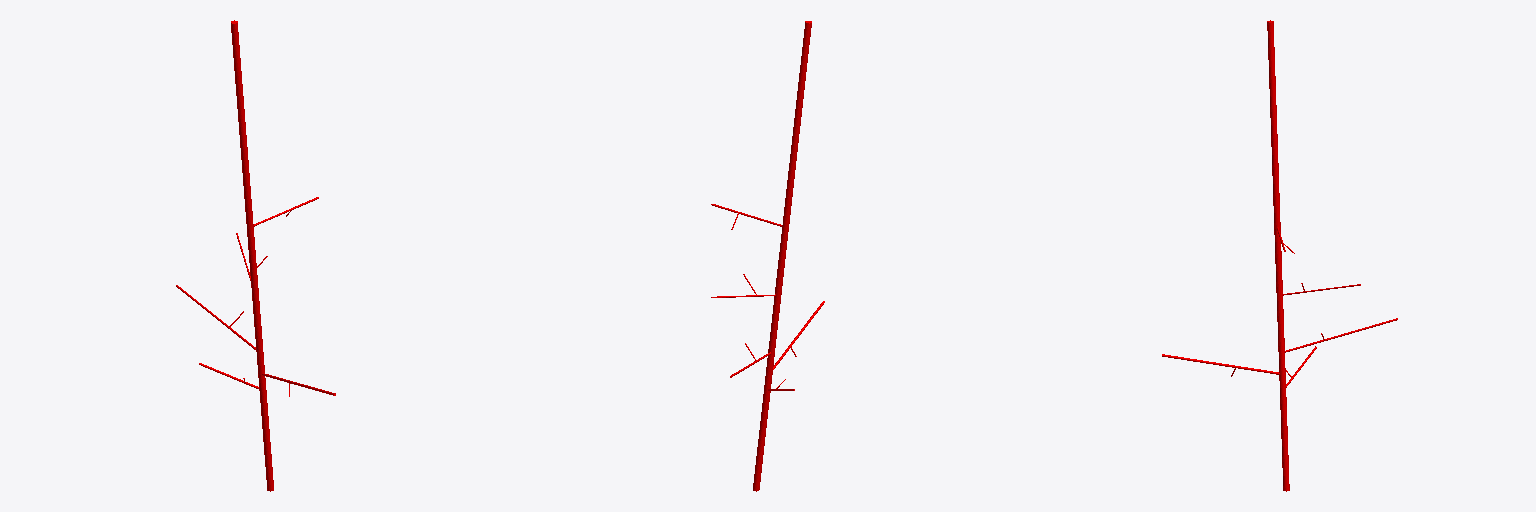
robot.urdf — tree_148.urdf:
<?xml version='1.0' encoding='UTF-8'?>
<robot name="tree_148.urdf">
  <link name="branch_0">
    <inertial>
      <origin xyz="0.0 0.0 0.0" rpy="0.0 -0.0 0.0"/>
      <mass value="0.1"/>
      <inertia ixx="0.001" ixy="0.0" ixz="0.0" iyy="0.001" iyz="0.0" izz="0.001"/>
    </inertial>
    <visual name="branch_0_visual">
      <geometry>
        <cylinder radius="0.051991936063921634" length="7.9982243961514445"/>
      </geometry>
      <material name="semantic_material"/>
      <origin xyz="-0.38846154736743893 -0.12919843690365487 3.9781030357340645" rpy="6.584279519017234e-18 0.10254816281654075 -2.8205112231306124"/>
    </visual>
    <collision name="branch_0_collision">
      <geometry>
        <cylinder radius="0.051991936063921634" length="7.9982243961514445"/>
      </geometry>
      <origin xyz="-0.38846154736743893 -0.12919843690365487 3.9781030357340645" rpy="6.584279519017234e-18 0.10254816281654075 -2.8205112231306124"/>
    </collision>
  </link>
  <link name="branch_1">
    <inertial>
      <origin xyz="0.0 0.0 0.0" rpy="0.0 -0.0 0.0"/>
      <mass value="0.1"/>
      <inertia ixx="0.001" ixy="0.0" ixz="0.0" iyy="0.001" iyz="0.0" izz="0.001"/>
    </inertial>
    <visual name="branch_1_visual">
      <geometry>
        <cylinder radius="0.017871542907593328" length="1.0322705889503438"/>
      </geometry>
      <material name="semantic_material"/>
      <origin xyz="0.0 0.0 0.0" rpy="0.0 -0.0 0.0"/>
    </visual>
    <collision name="branch_1_collision">
      <geometry>
        <cylinder radius="0.017871542907593328" length="1.0322705889503438"/>
      </geometry>
      <origin xyz="0.0 0.0 0.0" rpy="0.0 -0.0 0.0"/>
    </collision>
  </link>
  <link name="branch_2">
    <inertial>
      <origin xyz="0.0 0.0 0.0" rpy="0.0 -0.0 0.0"/>
      <mass value="0.1"/>
      <inertia ixx="0.001" ixy="0.0" ixz="0.0" iyy="0.001" iyz="0.0" izz="0.001"/>
    </inertial>
    <visual name="branch_2_visual">
      <geometry>
        <cylinder radius="0.01" length="0.24160204057257373"/>
      </geometry>
      <material name="semantic_material"/>
      <origin xyz="0.0 0.0 0.0" rpy="0.0 -0.0 0.0"/>
    </visual>
    <collision name="branch_2_collision">
      <geometry>
        <cylinder radius="0.01" length="0.24160204057257373"/>
      </geometry>
      <origin xyz="0.0 0.0 0.0" rpy="0.0 -0.0 0.0"/>
    </collision>
  </link>
  <link name="branch_3">
    <inertial>
      <origin xyz="0.0 0.0 0.0" rpy="0.0 -0.0 0.0"/>
      <mass value="0.1"/>
      <inertia ixx="0.001" ixy="0.0" ixz="0.0" iyy="0.001" iyz="0.0" izz="0.001"/>
    </inertial>
    <visual name="branch_3_visual">
      <geometry>
        <cylinder radius="0.016042055109456506" length="1.2517485028761957"/>
      </geometry>
      <material name="semantic_material"/>
      <origin xyz="0.0 0.0 0.0" rpy="0.0 -0.0 0.0"/>
    </visual>
    <collision name="branch_3_collision">
      <geometry>
        <cylinder radius="0.016042055109456506" length="1.2517485028761957"/>
      </geometry>
      <origin xyz="0.0 0.0 0.0" rpy="0.0 -0.0 0.0"/>
    </collision>
  </link>
  <link name="branch_4">
    <inertial>
      <origin xyz="0.0 0.0 0.0" rpy="0.0 -0.0 0.0"/>
      <mass value="0.1"/>
      <inertia ixx="0.001" ixy="0.0" ixz="0.0" iyy="0.001" iyz="0.0" izz="0.001"/>
    </inertial>
    <visual name="branch_4_visual">
      <geometry>
        <cylinder radius="0.01" length="0.29337512973058255"/>
      </geometry>
      <material name="semantic_material"/>
      <origin xyz="0.0 0.0 0.0" rpy="0.0 -0.0 0.0"/>
    </visual>
    <collision name="branch_4_collision">
      <geometry>
        <cylinder radius="0.01" length="0.29337512973058255"/>
      </geometry>
      <origin xyz="0.0 0.0 0.0" rpy="0.0 -0.0 0.0"/>
    </collision>
  </link>
  <link name="branch_5">
    <inertial>
      <origin xyz="0.0 0.0 0.0" rpy="0.0 -0.0 0.0"/>
      <mass value="0.1"/>
      <inertia ixx="0.001" ixy="0.0" ixz="0.0" iyy="0.001" iyz="0.0" izz="0.001"/>
    </inertial>
    <visual name="branch_5_visual">
      <geometry>
        <cylinder radius="0.020085209750799086" length="1.981948328596841"/>
      </geometry>
      <material name="semantic_material"/>
      <origin xyz="0.0 0.0 0.0" rpy="0.0 -0.0 0.0"/>
    </visual>
    <collision name="branch_5_collision">
      <geometry>
        <cylinder radius="0.020085209750799086" length="1.981948328596841"/>
      </geometry>
      <origin xyz="0.0 0.0 0.0" rpy="0.0 -0.0 0.0"/>
    </collision>
  </link>
  <link name="branch_6">
    <inertial>
      <origin xyz="0.0 0.0 0.0" rpy="0.0 -0.0 0.0"/>
      <mass value="0.1"/>
      <inertia ixx="0.001" ixy="0.0" ixz="0.0" iyy="0.001" iyz="0.0" izz="0.001"/>
    </inertial>
    <visual name="branch_6_visual">
      <geometry>
        <cylinder radius="0.01" length="0.2251807429508989"/>
      </geometry>
      <material name="semantic_material"/>
      <origin xyz="0.0 0.0 0.0" rpy="0.0 -0.0 0.0"/>
    </visual>
    <collision name="branch_6_collision">
      <geometry>
        <cylinder radius="0.01" length="0.2251807429508989"/>
      </geometry>
      <origin xyz="0.0 0.0 0.0" rpy="0.0 -0.0 0.0"/>
    </collision>
  </link>
  <link name="branch_7">
    <inertial>
      <origin xyz="0.0 0.0 0.0" rpy="0.0 -0.0 0.0"/>
      <mass value="0.1"/>
      <inertia ixx="0.001" ixy="0.0" ixz="0.0" iyy="0.001" iyz="0.0" izz="0.001"/>
    </inertial>
    <visual name="branch_7_visual">
      <geometry>
        <cylinder radius="0.012490300896926555" length="1.420066997830459"/>
      </geometry>
      <material name="semantic_material"/>
      <origin xyz="0.0 0.0 0.0" rpy="0.0 -0.0 0.0"/>
    </visual>
    <collision name="branch_7_collision">
      <geometry>
        <cylinder radius="0.012490300896926555" length="1.420066997830459"/>
      </geometry>
      <origin xyz="0.0 0.0 0.0" rpy="0.0 -0.0 0.0"/>
    </collision>
  </link>
  <link name="branch_8">
    <inertial>
      <origin xyz="0.0 0.0 0.0" rpy="0.0 -0.0 0.0"/>
      <mass value="0.1"/>
      <inertia ixx="0.001" ixy="0.0" ixz="0.0" iyy="0.001" iyz="0.0" izz="0.001"/>
    </inertial>
    <visual name="branch_8_visual">
      <geometry>
        <cylinder radius="0.01" length="0.3937988365880036"/>
      </geometry>
      <material name="semantic_material"/>
      <origin xyz="0.0 0.0 0.0" rpy="0.0 -0.0 0.0"/>
    </visual>
    <collision name="branch_8_collision">
      <geometry>
        <cylinder radius="0.01" length="0.3937988365880036"/>
      </geometry>
      <origin xyz="0.0 0.0 0.0" rpy="0.0 -0.0 0.0"/>
    </collision>
  </link>
  <link name="branch_9">
    <inertial>
      <origin xyz="0.0 0.0 0.0" rpy="0.0 -0.0 0.0"/>
      <mass value="0.1"/>
      <inertia ixx="0.001" ixy="0.0" ixz="0.0" iyy="0.001" iyz="0.0" izz="0.001"/>
    </inertial>
    <visual name="branch_9_visual">
      <geometry>
        <cylinder radius="0.01697534716261203" length="1.9479450800886076"/>
      </geometry>
      <material name="semantic_material"/>
      <origin xyz="0.0 0.0 0.0" rpy="0.0 -0.0 0.0"/>
    </visual>
    <collision name="branch_9_collision">
      <geometry>
        <cylinder radius="0.01697534716261203" length="1.9479450800886076"/>
      </geometry>
      <origin xyz="0.0 0.0 0.0" rpy="0.0 -0.0 0.0"/>
    </collision>
  </link>
  <link name="branch_10">
    <inertial>
      <origin xyz="0.0 0.0 0.0" rpy="0.0 -0.0 0.0"/>
      <mass value="0.1"/>
      <inertia ixx="0.001" ixy="0.0" ixz="0.0" iyy="0.001" iyz="0.0" izz="0.001"/>
    </inertial>
    <visual name="branch_10_visual">
      <geometry>
        <cylinder radius="0.01" length="0.32458019209155764"/>
      </geometry>
      <material name="semantic_material"/>
      <origin xyz="0.0 0.0 0.0" rpy="0.0 -0.0 0.0"/>
    </visual>
    <collision name="branch_10_collision">
      <geometry>
        <cylinder radius="0.01" length="0.32458019209155764"/>
      </geometry>
      <origin xyz="0.0 0.0 0.0" rpy="0.0 -0.0 0.0"/>
    </collision>
  </link>
  <joint name="joint_0_1" type="fixed">
    <parent link="branch_0"/>
    <child link="branch_1"/>
    <axis xyz="1. 0. 0."/>
    <origin xyz="-0.559177455405263 0.21220002936463647 1.8977204838204924" rpy="-0.21213503182066015 1.1624431406848477 2.3142755106180206"/>
  </joint>
  <joint name="joint_0_3" type="fixed">
    <parent link="branch_0"/>
    <child link="branch_3"/>
    <axis xyz="1. 0. 0."/>
    <origin xyz="0.18244976181201258 -0.08494676314734304 4.540539873871691" rpy="0.19450238592039298 1.4535762080691212 0.292766264464654"/>
  </joint>
  <joint name="joint_0_5" type="fixed">
    <parent link="branch_0"/>
    <child link="branch_5"/>
    <axis xyz="1. 0. 0."/>
    <origin xyz="-0.11877575219473047 -1.0315116585405437 2.1740518100770654" rpy="0.4563330877388429 1.3422527393602406 -1.0277811373042227"/>
  </joint>
  <joint name="joint_0_7" type="fixed">
    <parent link="branch_0"/>
    <child link="branch_7"/>
    <axis xyz="1. 0. 0."/>
    <origin xyz="-0.10923912606169077 0.541467518898079 3.5041919903848204" rpy="-0.28985929830548945 1.2839541792144897 0.950605483301701"/>
  </joint>
  <joint name="joint_0_9" type="fixed">
    <parent link="branch_0"/>
    <child link="branch_9"/>
    <axis xyz="1. 0. 0."/>
    <origin xyz="-0.4075492736232468 0.8570126255082945 2.551010386397521" rpy="-0.43002489664340443 1.3256769705458407 1.3191680876159069"/>
  </joint>
  <joint name="joint_1_2" type="fixed">
    <parent link="branch_0"/>
    <child link="branch_2"/>
    <axis xyz="1. 0. 0."/>
    <origin xyz="-0.4405254661274773 0.017685628705860986 1.8861141466302804" rpy="0.8688900953924504 0.2476219373846823 -0.7970531658578709"/>
  </joint>
  <joint name="joint_3_4" type="fixed">
    <parent link="branch_0"/>
    <child link="branch_4"/>
    <axis xyz="1. 0. 0."/>
    <origin xyz="0.3455113114724196 0.03564694382422954 4.456784451713809" rpy="2.3524647065343633 0.10161996952707433 -3.0310595734668904"/>
  </joint>
  <joint name="joint_5_6" type="fixed">
    <parent link="branch_0"/>
    <child link="branch_6"/>
    <axis xyz="1. 0. 0."/>
    <origin xyz="-0.16643501215944162 -0.8463216229756301 2.0266386136214" rpy="-2.8222061728161285 0.3553703071753125 1.6975115755642705"/>
  </joint>
  <joint name="joint_7_8" type="fixed">
    <parent link="branch_0"/>
    <child link="branch_8"/>
    <axis xyz="1. 0. 0."/>
    <origin xyz="-0.05494444308827623 0.27124132534916473 3.572727745800019" rpy="-0.7695688334907199 0.0726381237962065 -1.6847434273777526"/>
  </joint>
  <joint name="joint_9_10" type="fixed">
    <parent link="branch_0"/>
    <child link="branch_10"/>
    <axis xyz="1. 0. 0."/>
    <origin xyz="-0.24790405010139172 0.5880570585032812 2.609118957490965" rpy="-0.7368926933928333 0.305529458226167 -1.4573038049936753"/>
  </joint>
  <material name="semantic_material">
    <color rgba="1. 0. 0. 1."/>
  </material>
</robot>

--- Render facts (derived) ---
Views: 3 orthographic renders of the robot side by side, from view 1: azimuth 30°, elevation 25°; view 2: azimuth 150°, elevation 25°; view 3: azimuth 270°, elevation 25°.
Model tree_148.urdf with 11 links and 10 joints (10 fixed), rooted at branch_0, posed every joint at zero.
Visible links, largest first — view 1: branch_0; view 2: branch_0; view 3: branch_0.
Boxes of the visible links, x1,y1,x2,y2 form: branch_0: (231,20,273,491); branch_0: (753,21,811,491); branch_0: (1267,20,1289,491).
Bounding box of the posed robot: 1.77 × 3.8 × 7.97 m (x, y, z).
Geometry: primitives only (box / cylinder / sphere), no mesh files.
